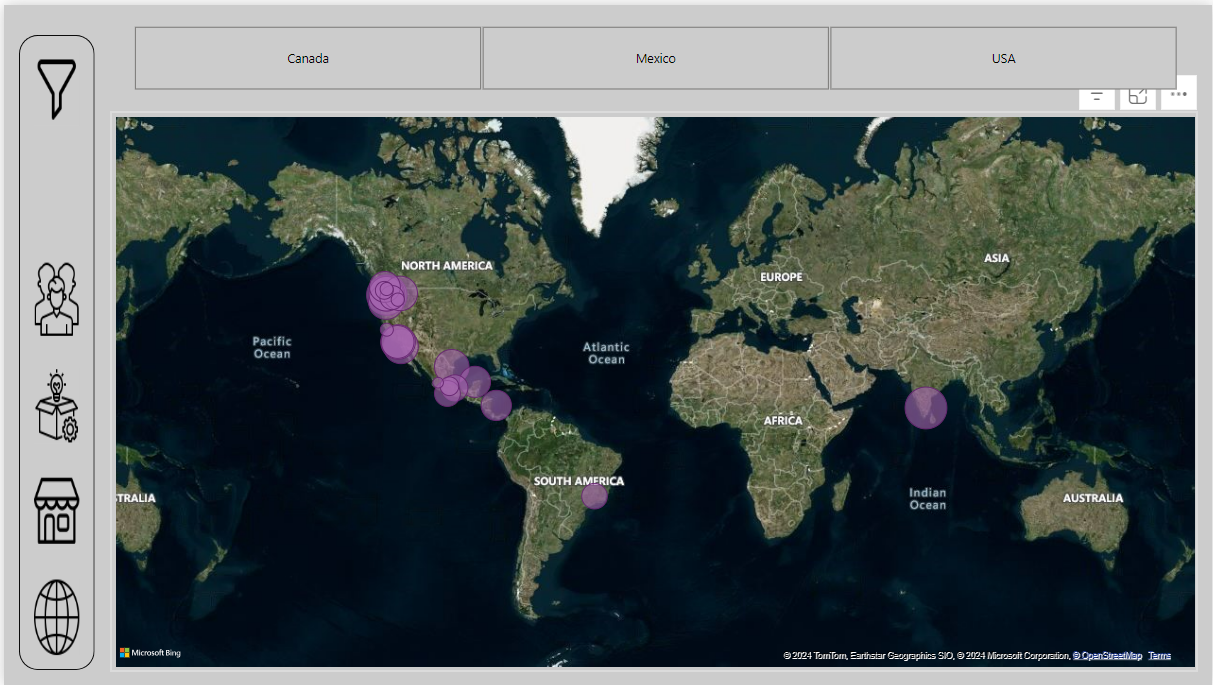

The page's visual inventory and layout, read from the dashboard file:
{"tool":"powerbi","page":{"name":"Map","canvas":[1280,720],"ordinal":4},"visuals":[{"type":"map","fields":{"Size":["Measure Table.Total Revenue"],"Category":["Stores.store_city"]},"box":[112,112,1152,592],"z":0},{"type":"shape","box":[16,32,80,672],"z":1000},{"type":"slicer","fields":{"Values":["Stores.store_country"]},"box":[112,16,1152,80],"z":2000},{"type":"actionButton","box":[32,48,48,80],"z":3000},{"type":"actionButton","box":[32,272,48,80],"z":4000},{"type":"actionButton","box":[32,496,48,80],"z":5000},{"type":"actionButton","box":[32,608,48,80],"z":6000},{"type":"actionButton","box":[32,384,48,80],"z":7000}]}

Visuals, with their boxes on the page's 1280x720 design canvas (x1, y1, x2, y2). These are canvas units, not pixel positions in the 1213x685 screenshot, which may show the page scaled, cropped or inside an application window:
map - Measure Table.Total Revenue x Stores.store_city: (left=112, top=112, right=1264, bottom=704)
shape: (left=16, top=32, right=96, bottom=704)
slicer - Stores.store_country: (left=112, top=16, right=1264, bottom=96)
actionButton: (left=32, top=48, right=80, bottom=128)
actionButton: (left=32, top=272, right=80, bottom=352)
actionButton: (left=32, top=496, right=80, bottom=576)
actionButton: (left=32, top=608, right=80, bottom=688)
actionButton: (left=32, top=384, right=80, bottom=464)
